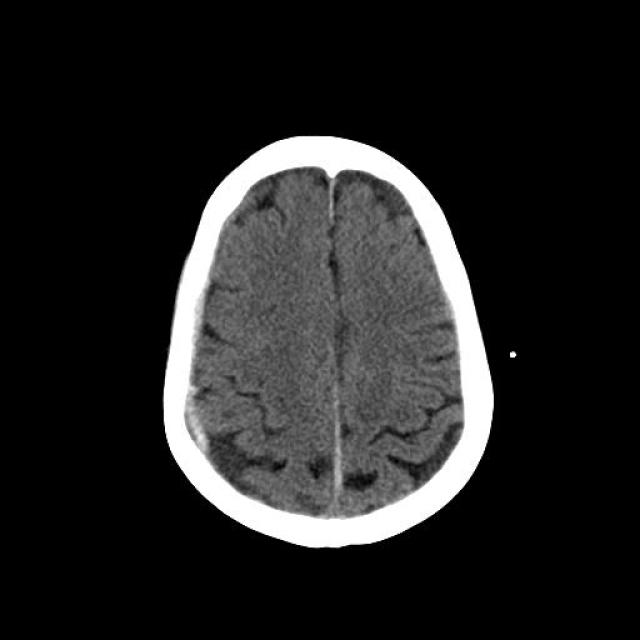Subdural: (162, 269, 240, 450)
